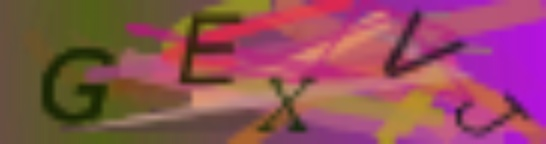E: (174, 10, 248, 90)
G: (38, 42, 118, 122)
J: (448, 90, 531, 138)
V: (384, 5, 469, 81)
X: (254, 73, 319, 135)
